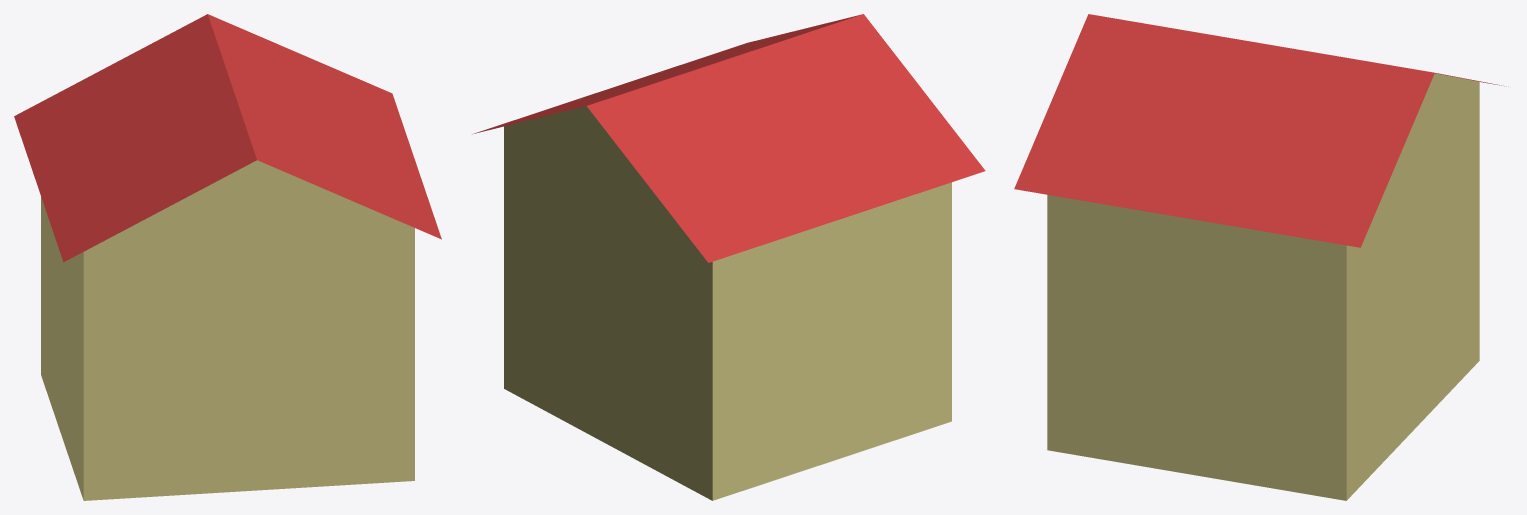
The picture shows the model from 3 angles, left to right: view 1: azimuth 30°, elevation 25°; view 2: azimuth 150°, elevation 25°; view 3: azimuth 270°, elevation 25°; orthographic projection. The views are drawn at different scales.
Bounding box in the file's own units: 15.28 × 14.71 × 11.84.
